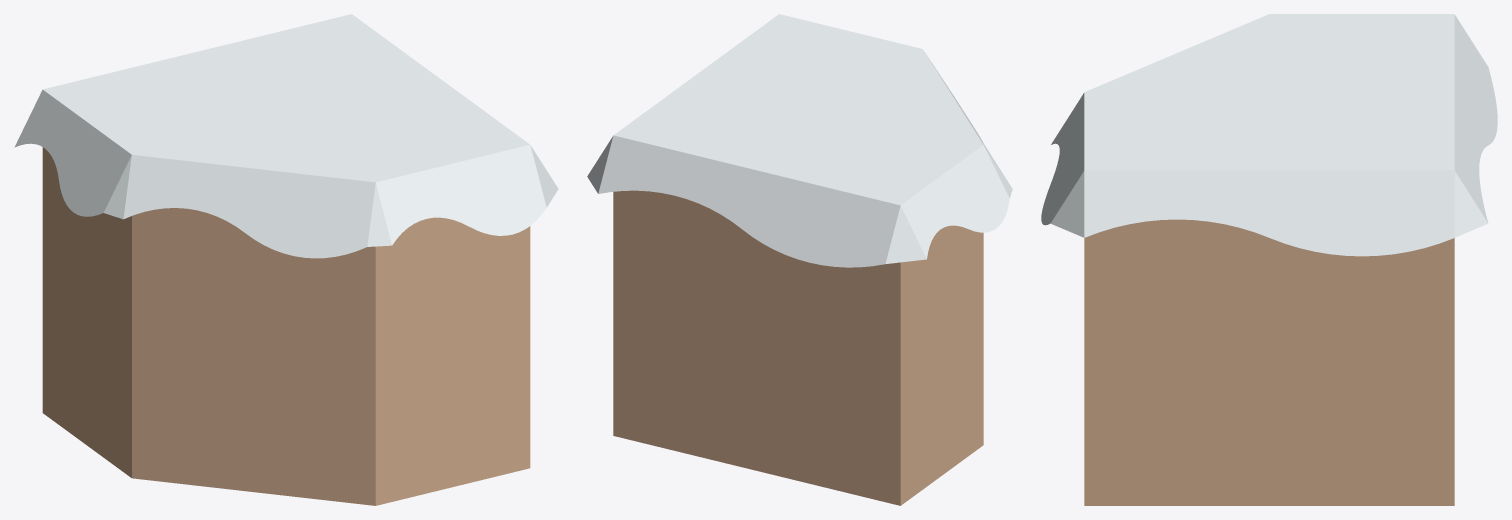
3 renders of one model, left to right at view 1: azimuth 30°, elevation 25°; view 2: azimuth 150°, elevation 25°; view 3: azimuth 270°, elevation 25°, orthographic. The views are drawn at different scales.
Parts seen in each view (by area): view 1: blockSnowCornerSmall; view 2: blockSnowCornerSmall; view 3: blockSnowCornerSmall.
Boxes of the visible parts, x1,y1,x2,y2 form: blockSnowCornerSmall: (14, 14, 558, 505); blockSnowCornerSmall: (587, 14, 1012, 505); blockSnowCornerSmall: (1041, 14, 1497, 505).
Size of the model in its own units: 1.23 by 1 by 1.23.
